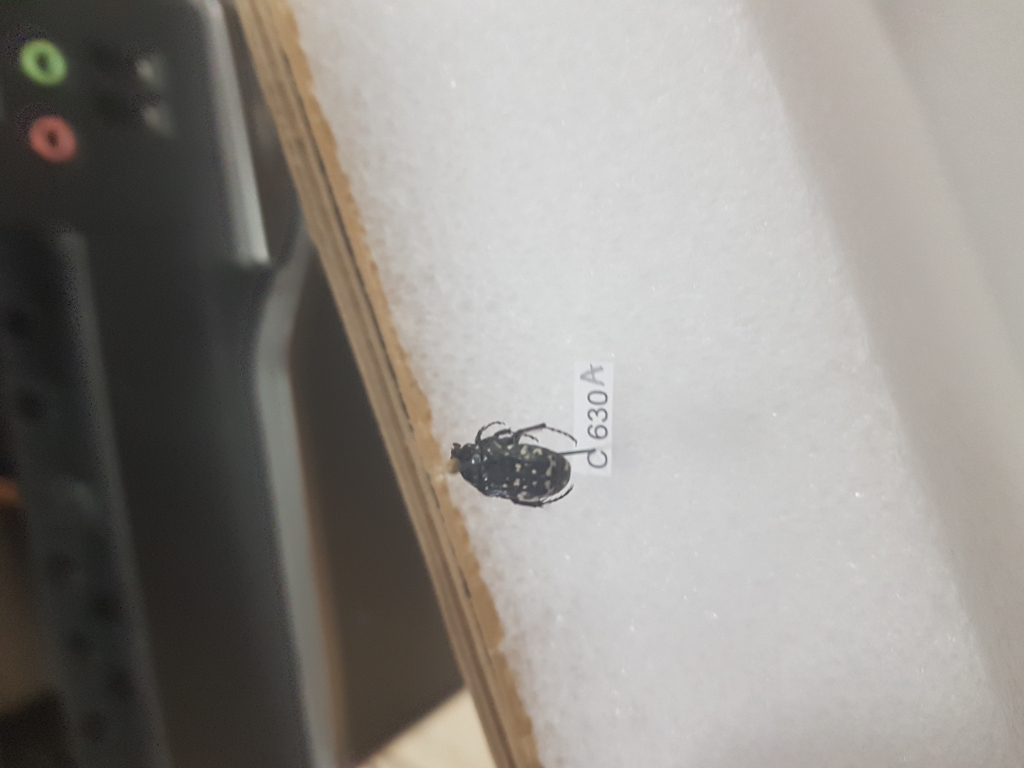Oxythyrea_albopicta: (448, 424, 582, 510)
